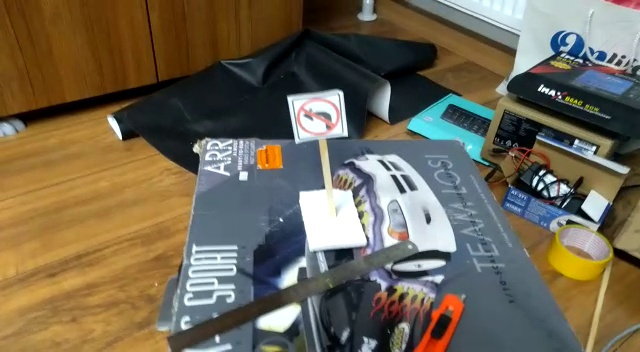sola_donulmez: (295, 91, 341, 140)
